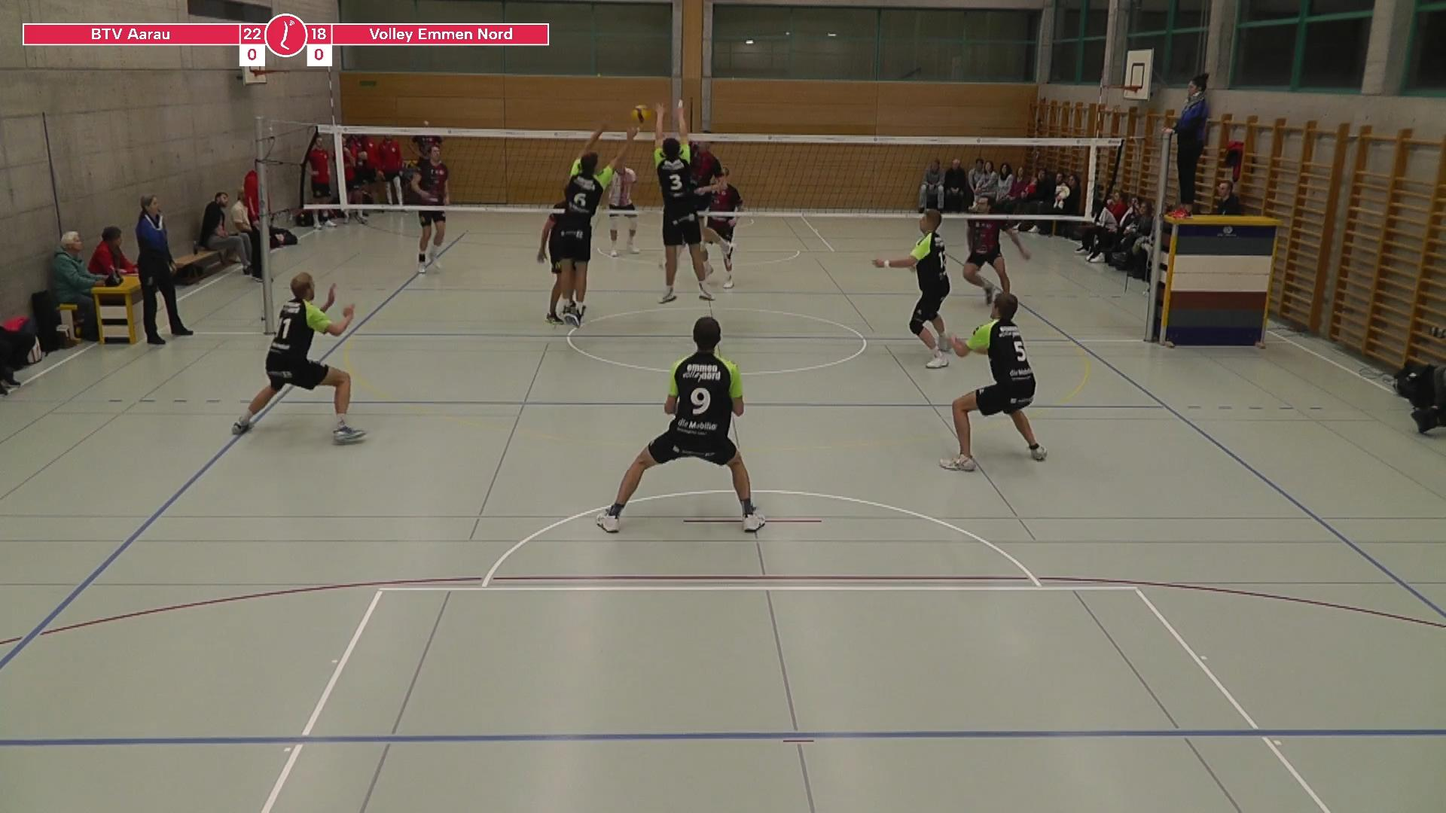Attack: (674, 99, 720, 276)
Block: (527, 116, 632, 333), (651, 101, 726, 308)
Player: (596, 316, 764, 532), (233, 273, 365, 443), (941, 292, 1046, 470), (874, 209, 950, 368), (962, 220, 1030, 303), (700, 168, 742, 288), (537, 201, 566, 324), (609, 165, 638, 255), (417, 208, 445, 273)
ball: (626, 102, 653, 129)
